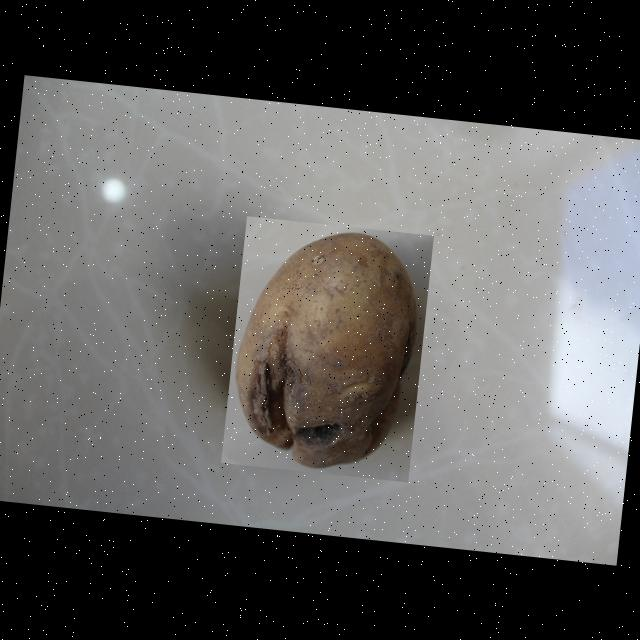Diseased-fungal potato: (221, 216, 434, 482)
